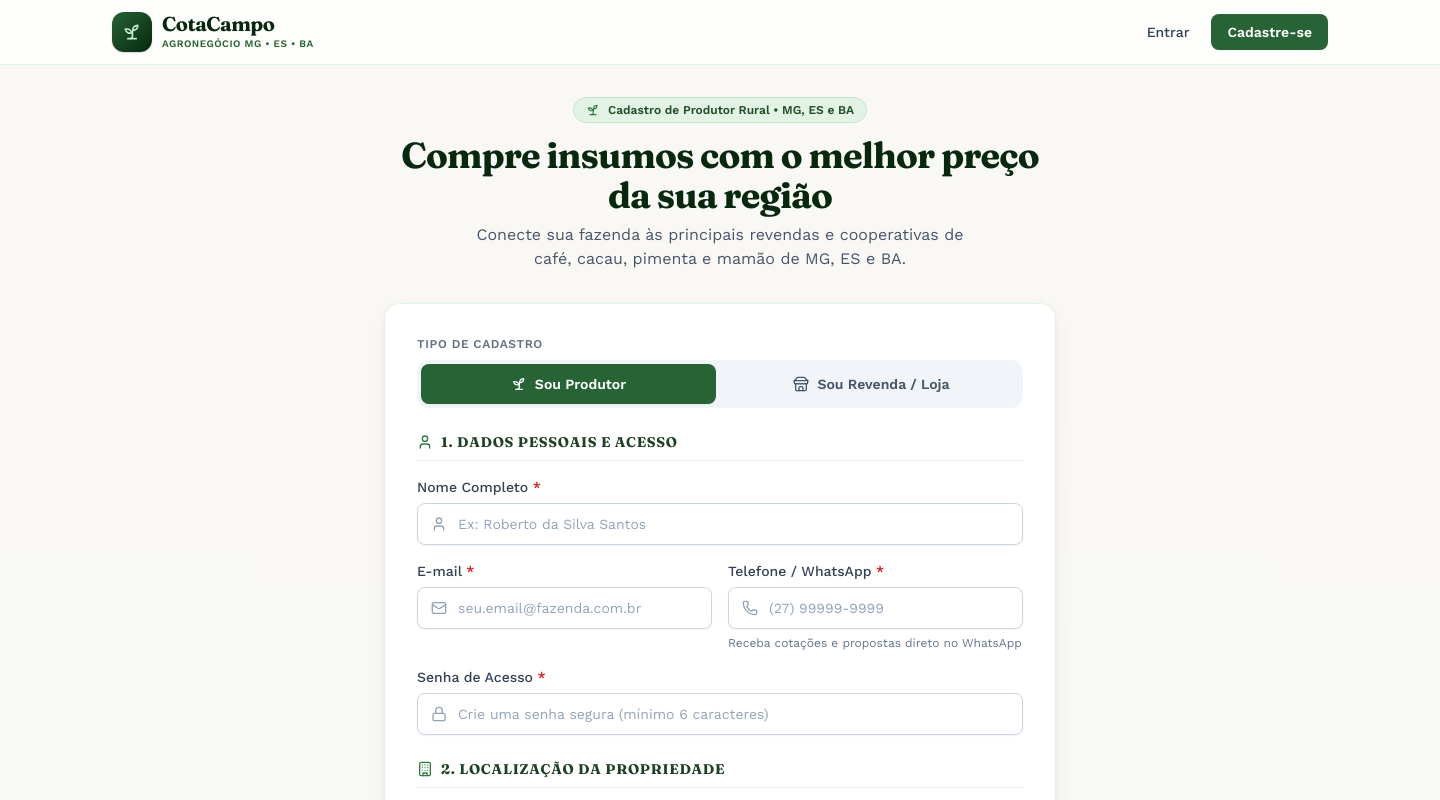
Test case: US02 – Cadastro da Revenda de Insumos › deve aplicar máscara de CNPJ enquanto o usuário digita
Click the button "Sou Revenda / Loja" at x=872, y=384, box [724, 364, 1019, 404]
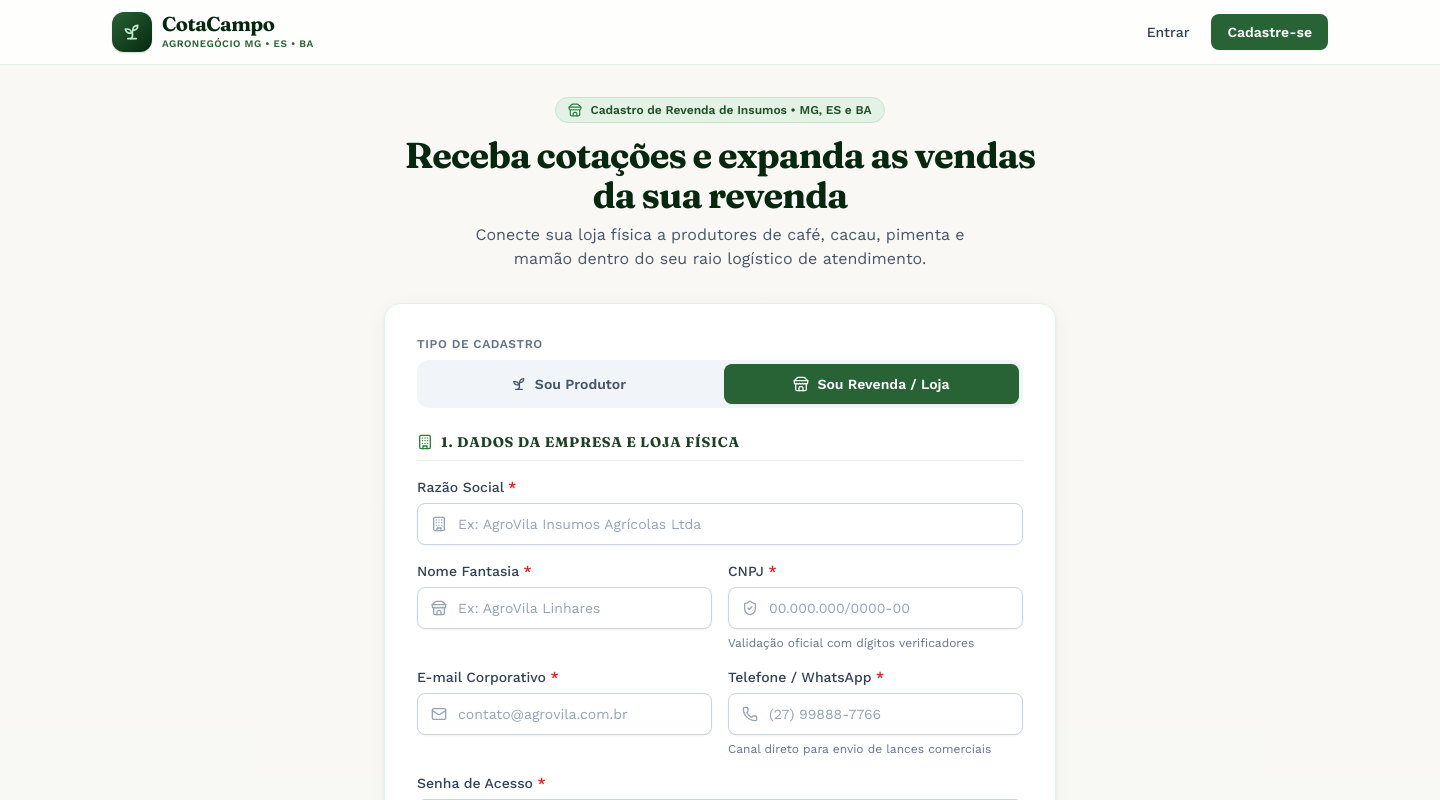
Type "11222" into the field labelled "CNPJ *" at x=876, y=608, box [728, 587, 1023, 629]
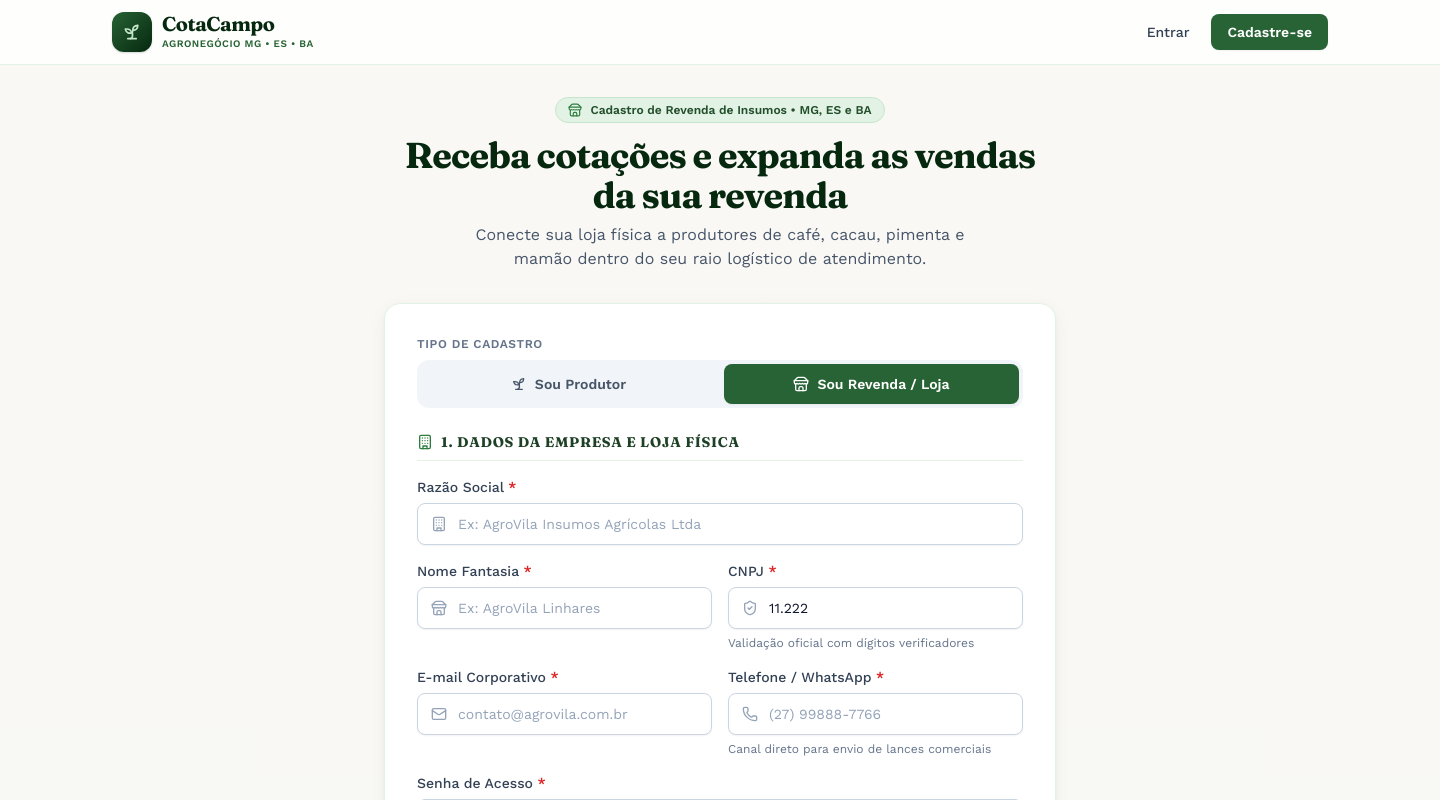
Now the field labelled "CNPJ *" holds "11.222"
Replace the text in the field labelled "CNPJ *" with "11222333000181" at x=876, y=608, box [728, 587, 1023, 629]
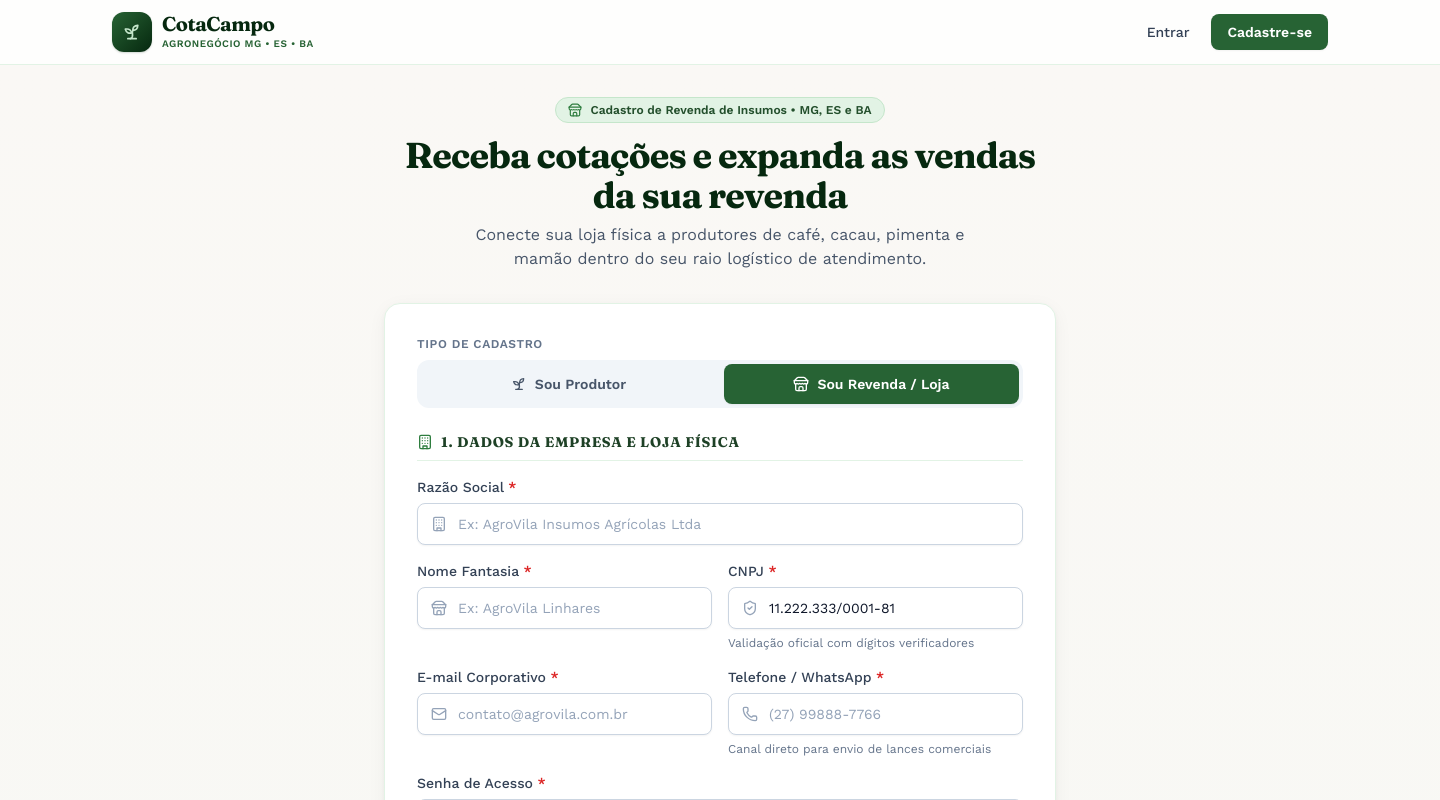
Now the field labelled "CNPJ *" holds "11.222.333/0001-81", box [728, 587, 1023, 629]
